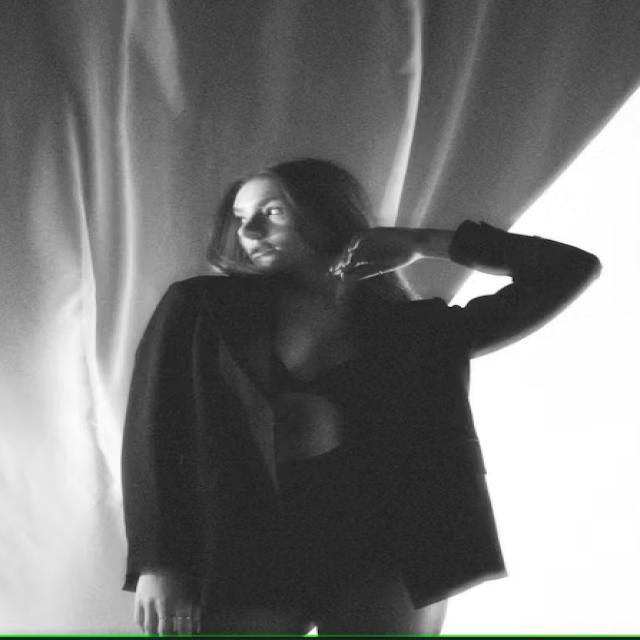Edited images: (94, 142, 616, 640)
